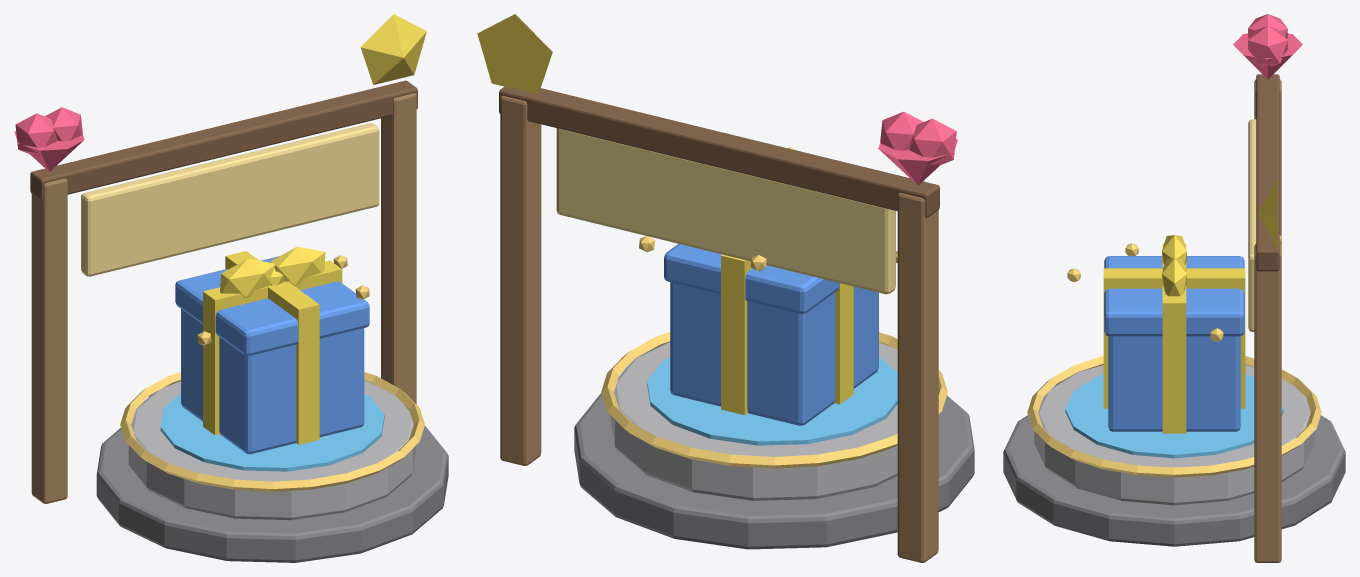
File: puesto_diario.obj
3 renders of one model, left to right at view 1: azimuth 30°, elevation 25°; view 2: azimuth 150°, elevation 25°; view 3: azimuth 270°, elevation 25°, orthographic. The views are drawn at different scales.
Visible parts, largest first — view 1: Base, Regalo, Cartel; view 2: Base, Regalo, Cartel; view 3: Base, Regalo, Cartel.
Part boxes in pixels (<box>): Base: <box>14,14,448,562</box>; Regalo: <box>175,246,369,454</box>; Cartel: <box>81,123,379,276</box>; Base: <box>477,14,974,562</box>; Regalo: <box>639,147,897,425</box>; Cartel: <box>556,128,895,294</box>; Base: <box>1003,14,1345,562</box>; Regalo: <box>1067,235,1281,433</box>; Cartel: <box>1248,119,1256,331</box>.
Size of the model in its own units: 5.93 by 5.4 by 4.4.
1 material, 1 textured.
